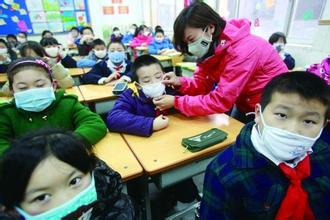OK: (26, 169, 96, 220), (16, 76, 55, 113), (186, 30, 212, 60), (138, 73, 168, 99), (110, 48, 126, 65), (47, 44, 59, 59), (97, 47, 108, 60), (275, 40, 286, 52), (1, 44, 8, 57), (19, 35, 26, 44), (156, 36, 164, 43)
WRONG: (257, 102, 320, 162)
